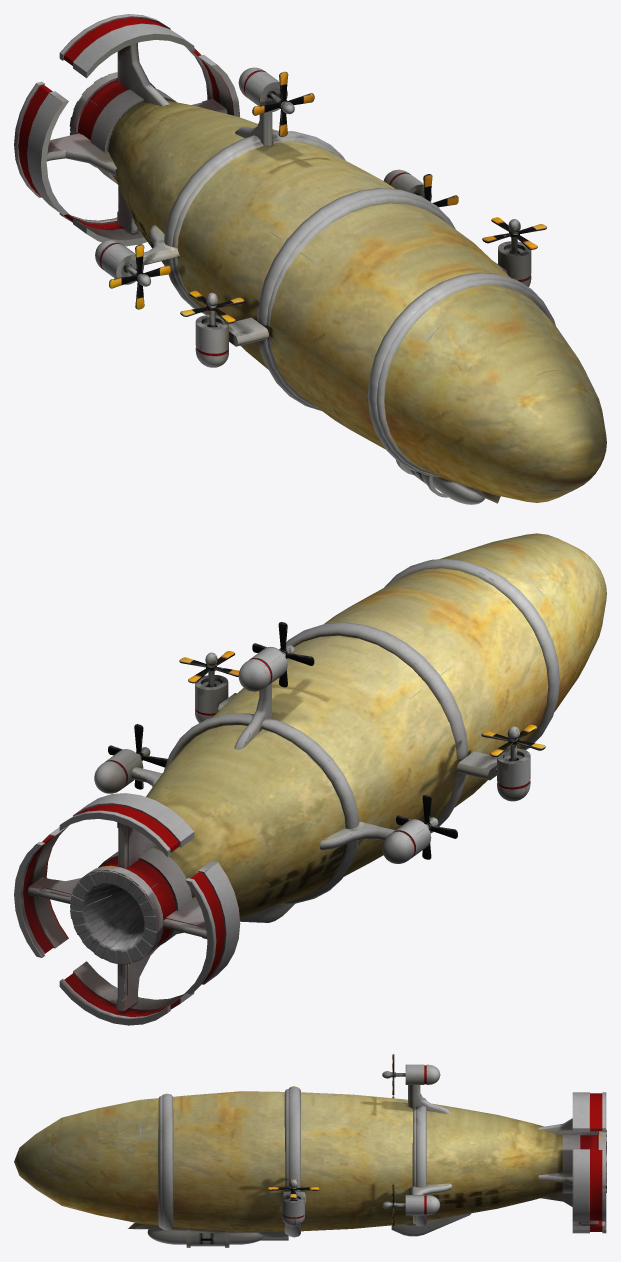
File: FeiTing.glb
The picture shows the model from 3 angles, top to bottom: view 1: azimuth 30°, elevation 25°; view 2: azimuth 150°, elevation 25°; view 3: azimuth 270°, elevation 25°; orthographic projection. The views are drawn at different scales.
Visible parts, largest first — view 1: Airship; view 2: Airship; view 3: Airship.
Boxes of the visible parts, x1=… form: Airship: x1=14, y1=14, x2=606, y2=504; Airship: x1=14, y1=533, x2=606, y2=1025; Airship: x1=14, y1=1054, x2=606, y2=1247.
Bounding box in the file's own units: 21.55 × 17.25 × 48.53.
1 material, 1 textured.
